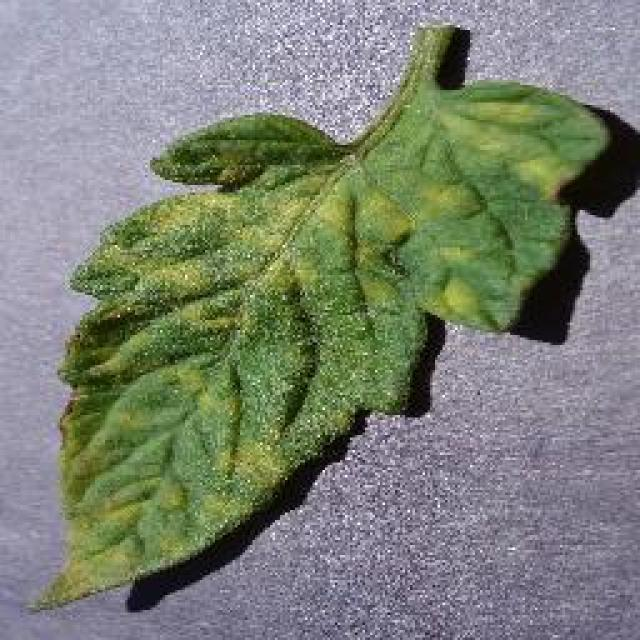Tomato___Leaf_Mold: (40, 28, 608, 602)
